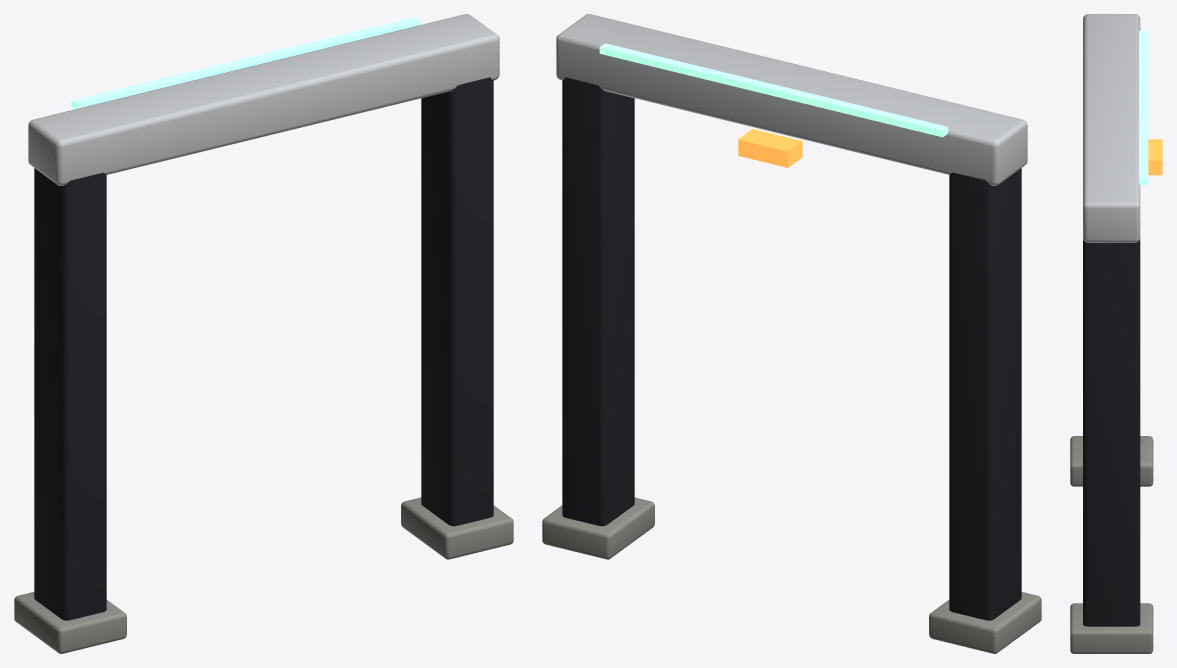
Rendered from spawn_arch.glb.
The picture shows the model from 3 angles, left to right: view 1: azimuth 30°, elevation 25°; view 2: azimuth 150°, elevation 25°; view 3: azimuth 270°, elevation 25°; orthographic projection. The views are drawn at different scales.
Visible parts, largest first — view 1: Lintel, Post0, Post1, Foot0, Foot1, ArchStrip; view 2: Post0, Post1, Lintel, ArchStrip, Foot0, Foot1, ArchLamp; view 3: Post1, Lintel, Foot1, ArchStrip, Foot0, ArchLamp.
Part boxes in pixels (left/top/right/bottom): Lintel: left=28, top=14, right=499, bottom=185; Post0: left=34, top=168, right=106, bottom=620; Post1: left=421, top=77, right=493, bottom=526; Foot0: left=14, top=592, right=126, bottom=653; Foot1: left=401, top=497, right=513, bottom=559; ArchStrip: left=71, top=17, right=420, bottom=109; Post0: left=949, top=168, right=1021, bottom=620; Post1: left=562, top=77, right=634, bottom=526; Lintel: left=556, top=14, right=1027, bottom=185; ArchStrip: left=599, top=43, right=948, bottom=137; Foot0: left=929, top=592, right=1041, bottom=653; Foot1: left=542, top=497, right=654, bottom=559; ArchLamp: left=738, top=129, right=802, bottom=167; Post1: left=1083, top=239, right=1140, bottom=626; Lintel: left=1083, top=14, right=1140, bottom=242; Foot1: left=1070, top=603, right=1153, bottom=653; ArchStrip: left=1139, top=31, right=1148, bottom=185; Foot0: left=1070, top=436, right=1153, bottom=486; ArchLamp: left=1148, top=139, right=1162, bottom=175.
Size of the model in its own units: 1.46 by 1.56 by 0.29.
